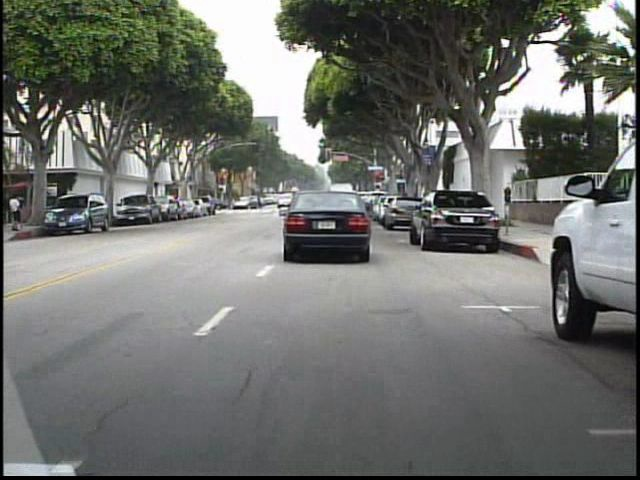person: (10, 191, 28, 234), (255, 190, 268, 214)
